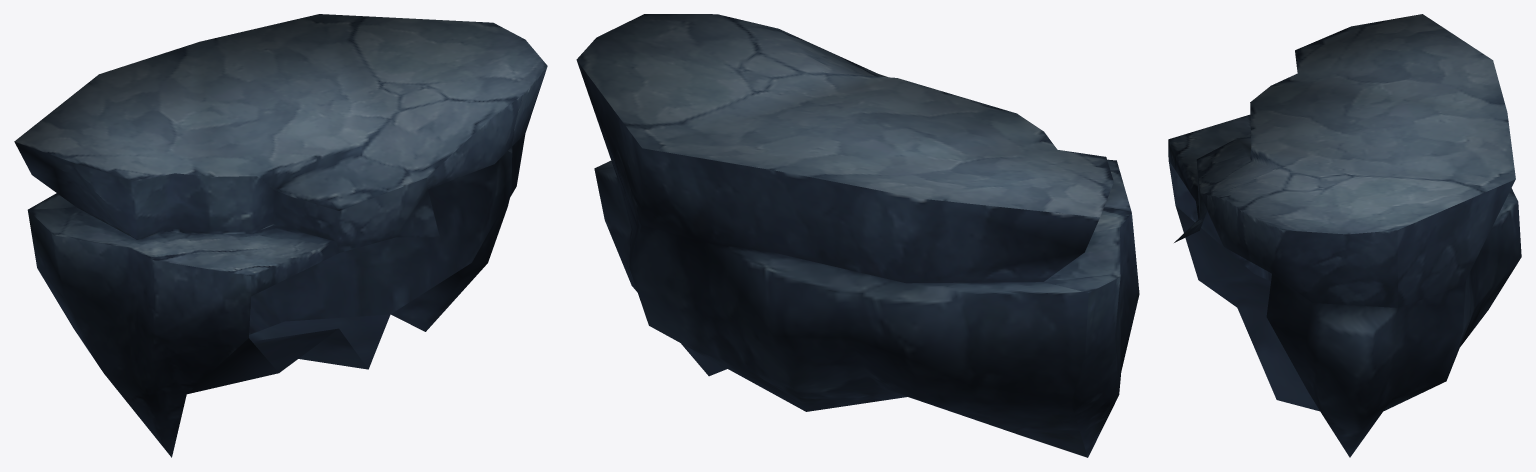
Rendered from Area_01_21.fbx.
The picture shows the model from 3 angles, left to right: view 1: azimuth 30°, elevation 25°; view 2: azimuth 150°, elevation 25°; view 3: azimuth 270°, elevation 25°; orthographic projection. The views are drawn at different scales.
Visible parts, largest first — view 1: Area_01_21; view 2: Area_01_21; view 3: Area_01_21.
Part boxes in pixels (left/top/right/bottom): Area_01_21: left=14, top=14, right=547, bottom=457; Area_01_21: left=576, top=14, right=1139, bottom=457; Area_01_21: left=1168, top=14, right=1521, bottom=457.
Bounding box in the file's own units: 3311 × 1982 × 2113.
